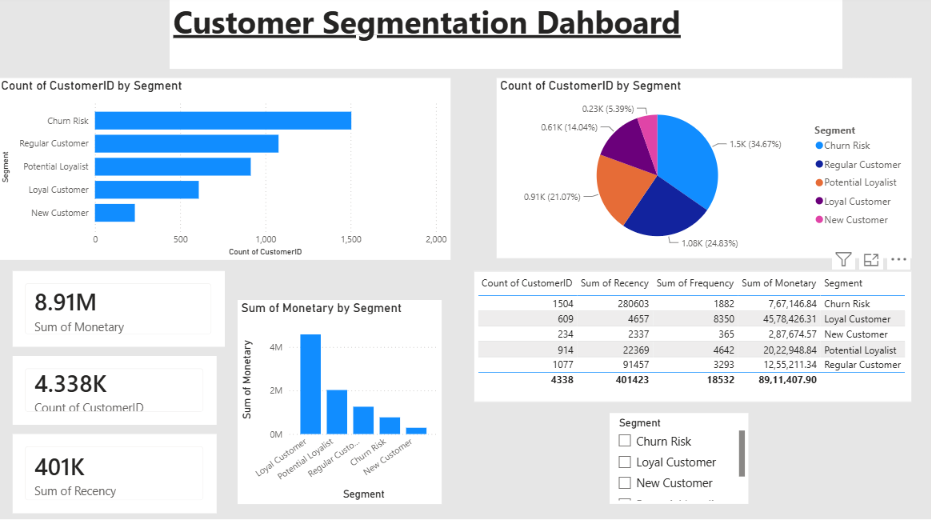

This screenshot's page, from the dashboard's own definition file:
{"tool":"powerbi","page":{"name":"Page 1","canvas":[1280,720],"ordinal":0},"visuals":[{"type":"cardVisual","fields":{"Data":["CountNonNull(Customer_Segments.CustomerID)"]},"box":[20.6,494,279.9,94.7],"z":1000},{"type":"cardVisual","fields":{"Data":["Sum(Customer_Segments.Monetary)"]},"box":[20.6,377.4,290.9,104.3],"z":2000},{"type":"cardVisual","fields":{"Data":["Sum(Customer_Segments.Recency)"]},"box":[20.6,601,279.9,108.4],"z":3000},{"type":"clusteredBarChart","fields":{"Category":["Customer_Segments.Segment"],"Y":["CountNonNull(Customer_Segments.CustomerID)"]},"box":[0,112.5,621.6,249.7],"z":4000},{"type":"clusteredColumnChart","fields":{"Category":["Customer_Segments.Segment"],"Y":["Sum(Customer_Segments.Monetary)"]},"box":[329.3,417.2,279.9,279.9],"z":5000},{"type":"pieChart","fields":{"Category":["Customer_Segments.Segment"],"Y":["CountNonNull(Customer_Segments.CustomerID)"]},"box":[684.7,112.5,569.5,247],"z":6000},{"type":"tableEx","fields":{"Values":["CountNonNull(Customer_Segments.CustomerID)","Sum(Customer_Segments.Recency)","Sum(Customer_Segments.Frequency)","Sum(Customer_Segments.Monetary)","Customer_Segments.Segment"]},"box":[653.2,377.4,601,179.8],"z":7000},{"type":"slicer","fields":{"Values":["Customer_Segments.Segment"]},"box":[839.8,572.2,190.7,124.9],"z":8000},{"type":"textbox","box":[236,0,923.5,100.2],"z":9000}]}

Visuals, with their boxes in screenshot pixels (x1, y1, x2, y2), scaled from the page's 1280x720 canvas onto the 931x520 screenshot:
cardVisual - CountNonNull(Customer_Segments.CustomerID): bbox=[15, 357, 219, 425]
cardVisual - Sum(Customer_Segments.Monetary): bbox=[15, 273, 227, 348]
cardVisual - Sum(Customer_Segments.Recency): bbox=[15, 434, 219, 512]
clusteredBarChart - Customer_Segments.Segment x CountNonNull(Customer_Segments.CustomerID): bbox=[0, 81, 452, 262]
clusteredColumnChart - Customer_Segments.Segment x Sum(Customer_Segments.Monetary): bbox=[240, 301, 443, 503]
pieChart - Customer_Segments.Segment x CountNonNull(Customer_Segments.CustomerID): bbox=[498, 81, 912, 260]
tableEx - CountNonNull(Customer_Segments.CustomerID) x Sum(Customer_Segments.Recency): bbox=[475, 273, 912, 402]
slicer - Customer_Segments.Segment: bbox=[611, 413, 750, 503]
textbox: bbox=[172, 0, 843, 72]
